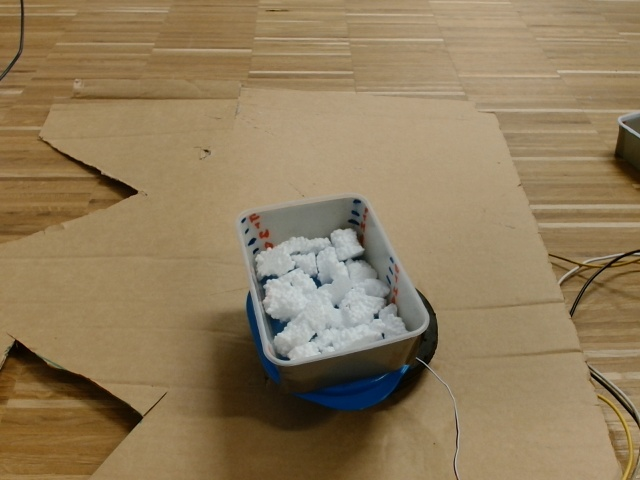Small_quarter: (236, 193, 431, 368)
